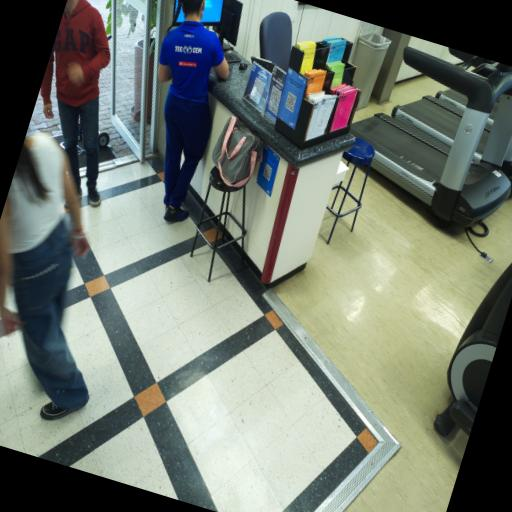person: (0, 134, 89, 419), (158, 0, 229, 222), (40, 0, 110, 206)
